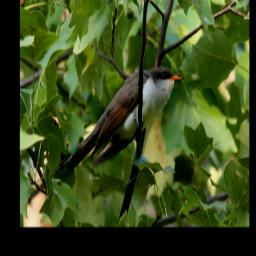Cuckoo: (54, 62, 181, 172)
